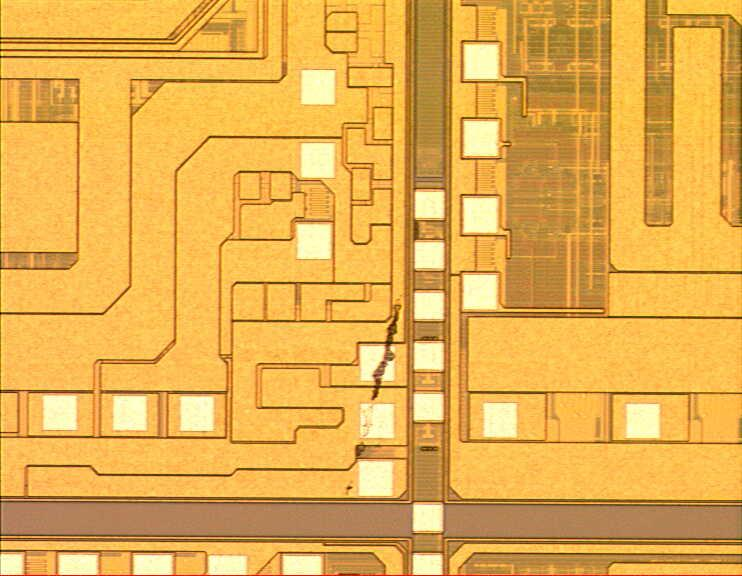SCRATCH: (329, 279, 412, 507)
